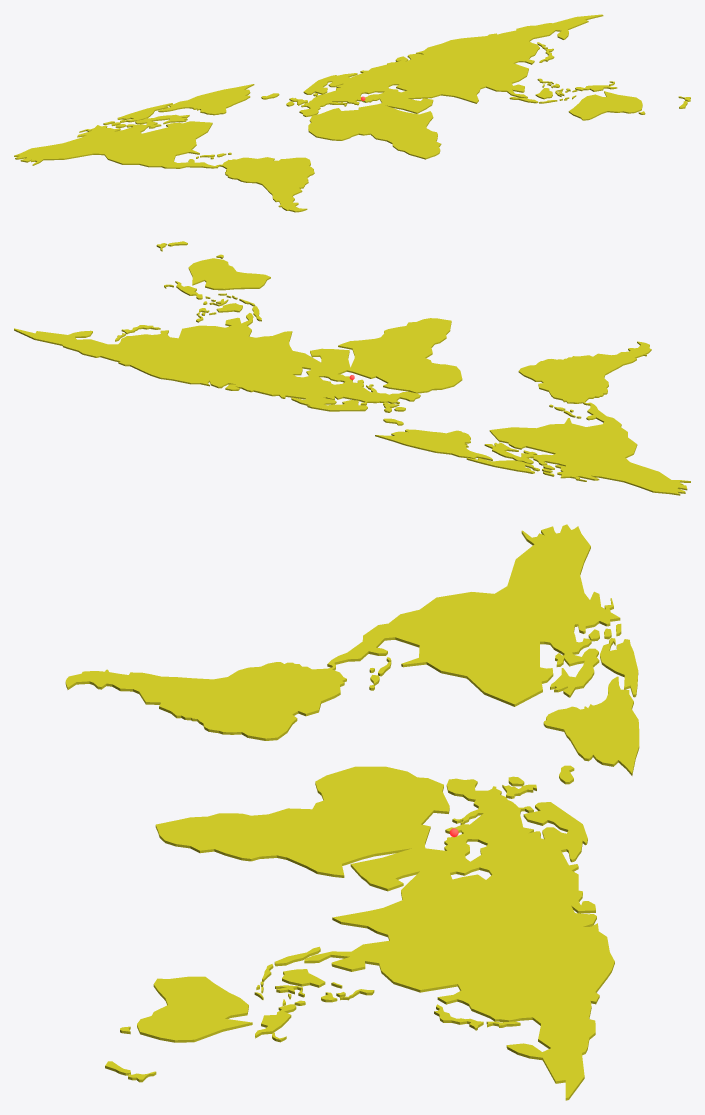
File: World-000.glb
3 views of the same model, one above another, from view 1: azimuth 30°, elevation 25°; view 2: azimuth 150°, elevation 25°; view 3: azimuth 270°, elevation 25° (orthographic). The views are drawn at different scales.
Visible parts, largest first — view 1: World; view 2: World; view 3: World.
Boxes of the visible parts, <box> form: World: <box>14,14,690,212</box>; World: <box>14,241,690,495</box>; World: <box>65,524,639,1100</box>.
Bounding box in the file's own units: 16.44 × 0.1731 × 6.95.
